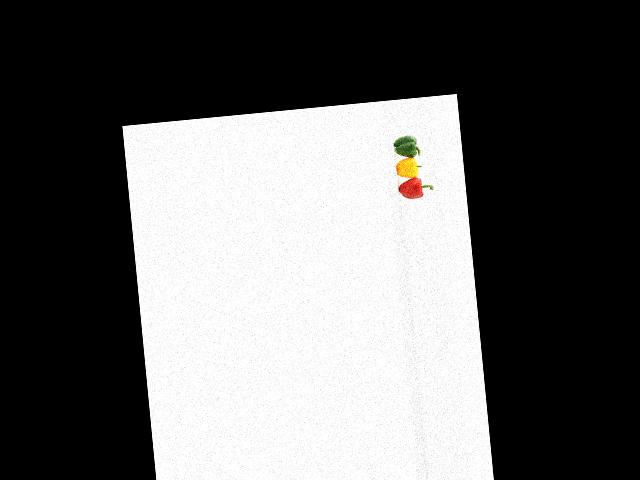bell_pepper: (394, 173, 437, 206)
